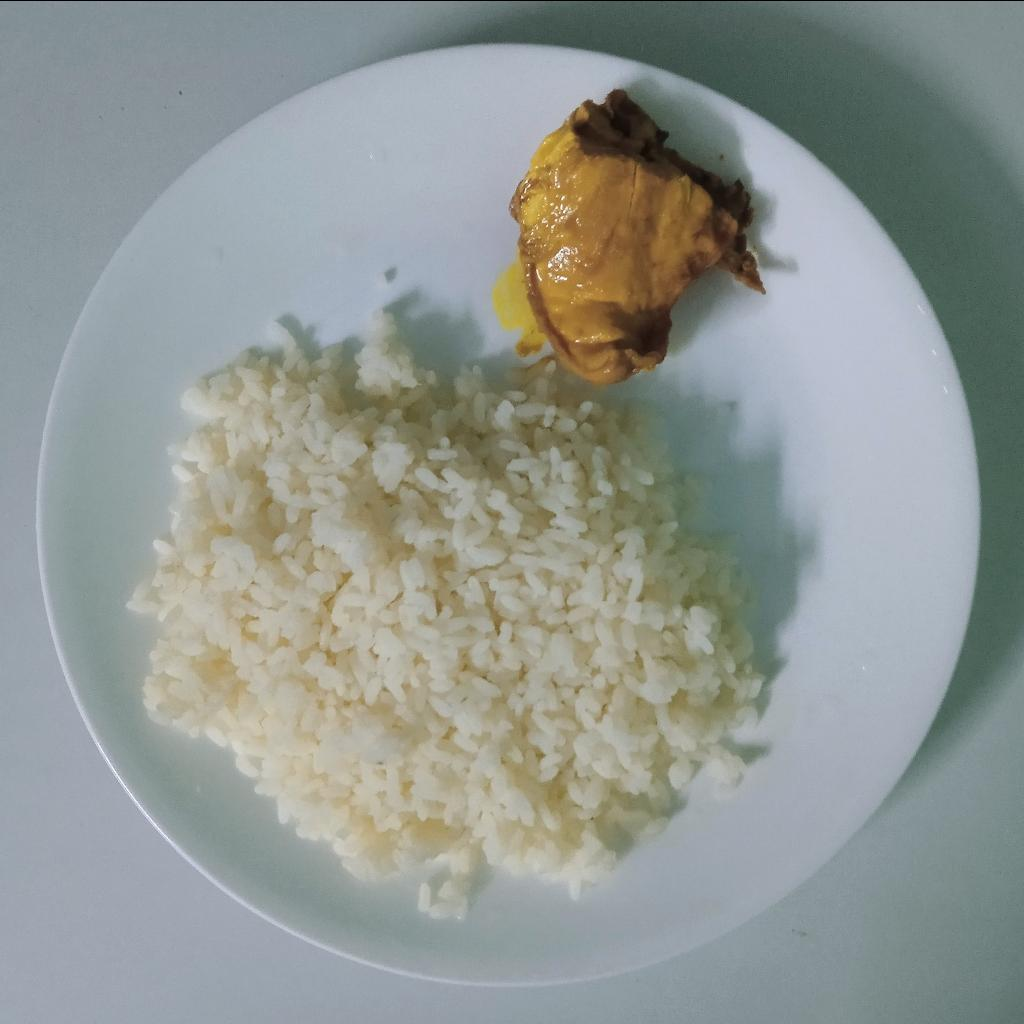chicken: (508, 86, 764, 387)
rice: (130, 307, 760, 923)
